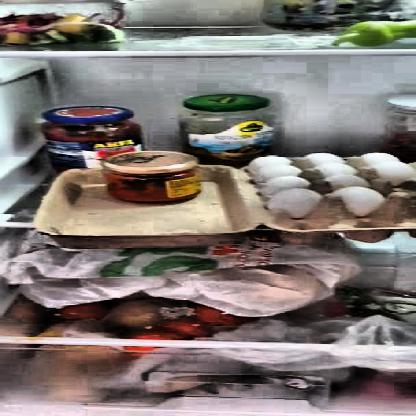eggs: (254, 155, 414, 214)
olives: (266, 0, 408, 27)
tomato: (153, 316, 213, 338), (59, 304, 110, 320)
